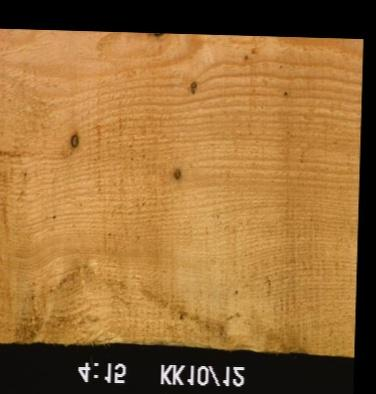dry_knot: (170, 166, 181, 182)
small_knot: (186, 80, 197, 94)
